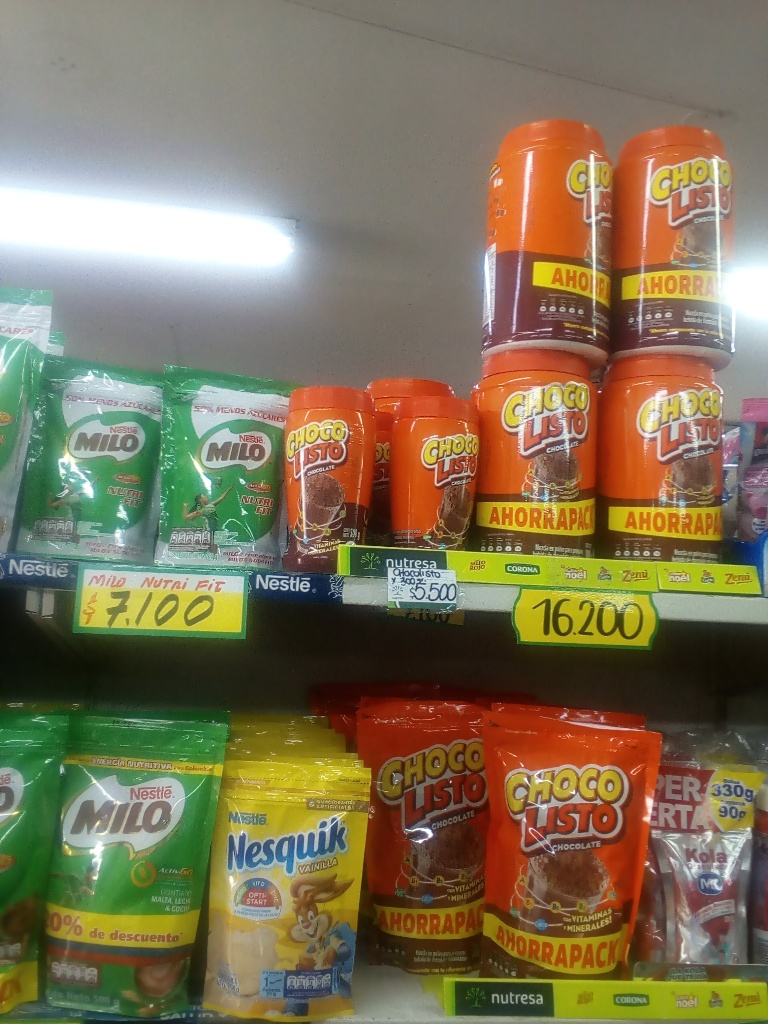COL0170103DYP40000: (361, 704, 494, 980)
COL0170103TRR00100: (475, 349, 596, 558)
COL0170103TRR30000: (288, 377, 374, 570)
COL0170203DYP50000: (48, 717, 216, 1015)
COL0170205DYP20000: (12, 357, 159, 564)
COL0170306DYP20000: (215, 761, 356, 1018)
